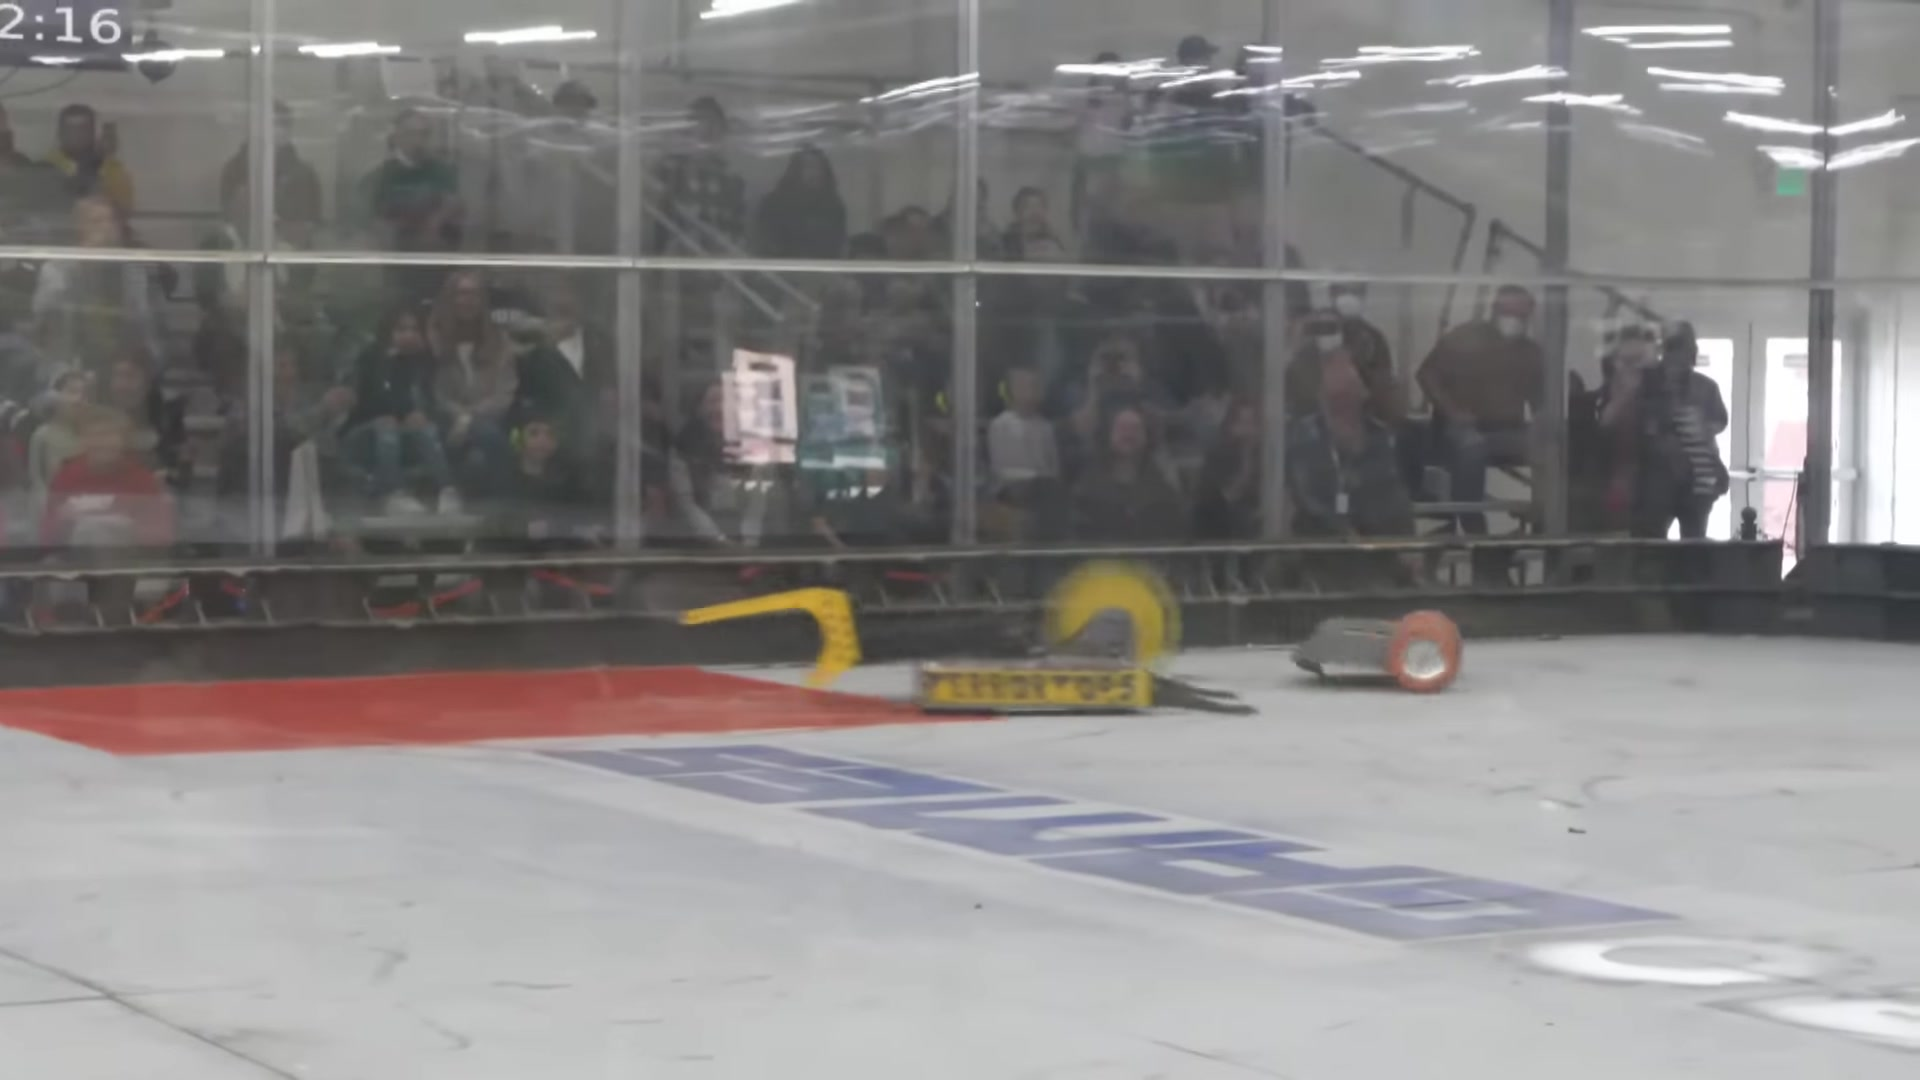combatbot: (919, 567, 1257, 719), (1291, 613, 1461, 692)
